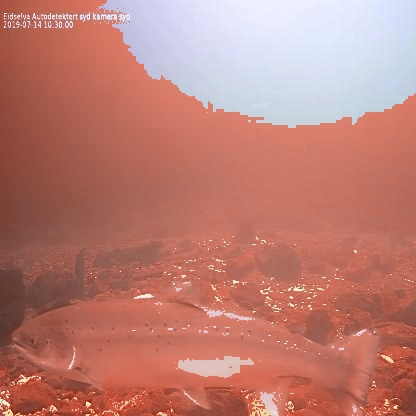salmon: (9, 276, 383, 416)
